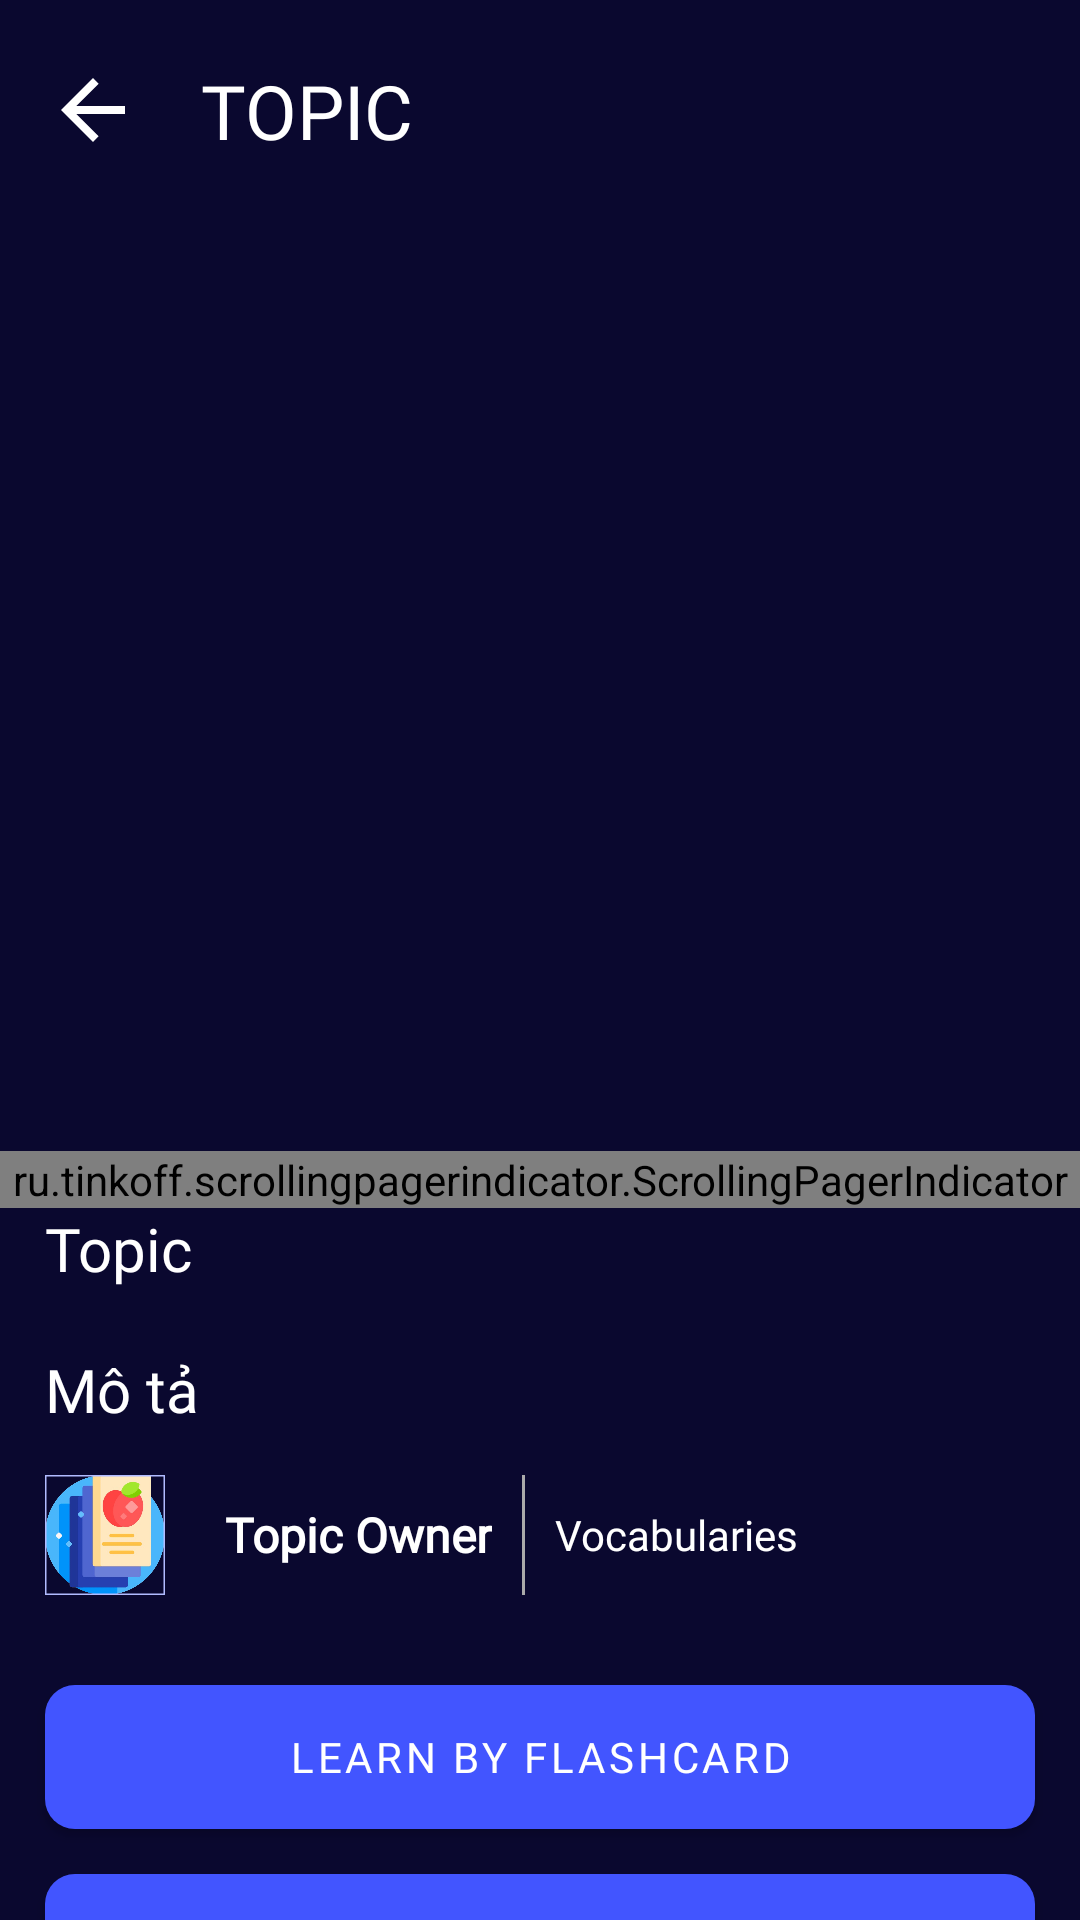

Icons on this 1080 × 1920 Android screen, each with the point to tap as (x=x, y=y):
arrow back: (x=93, y=110)
